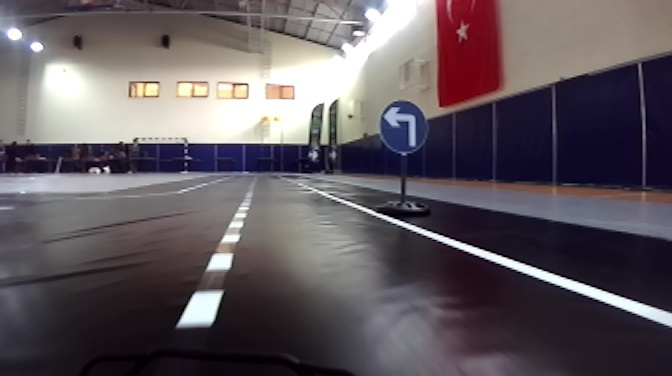sola_donus: (380, 100, 432, 152)
